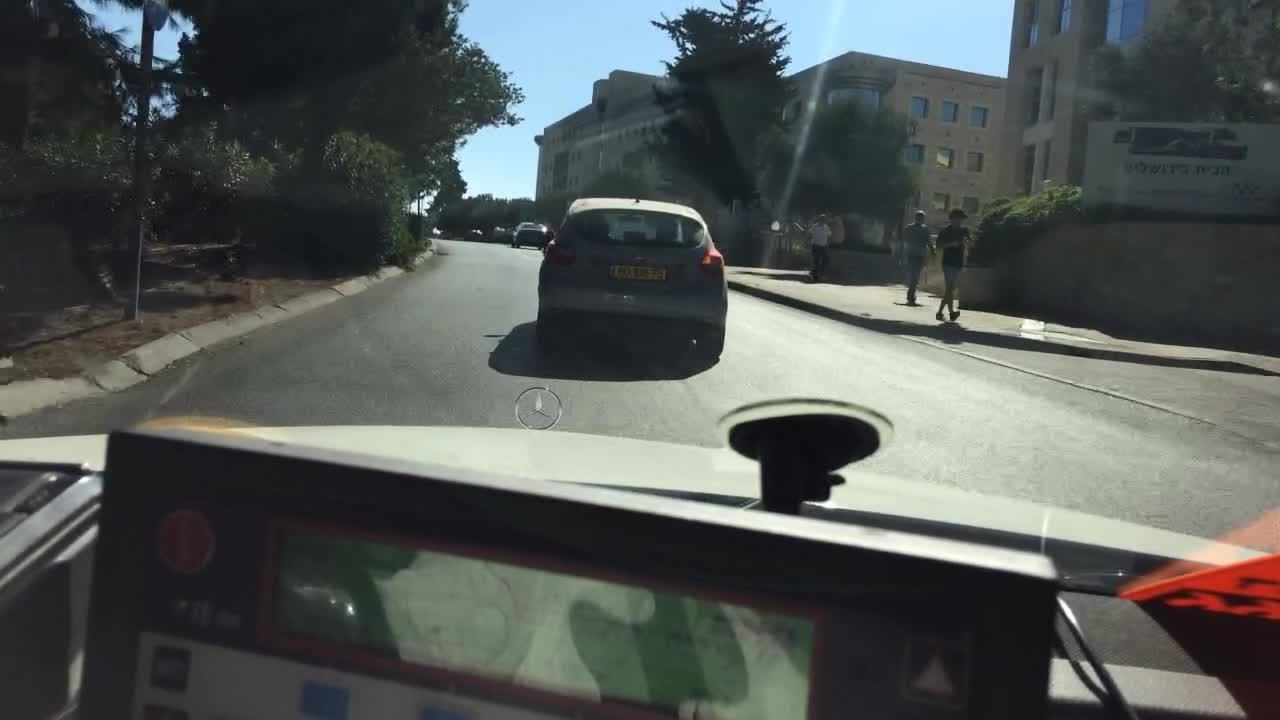car: (533, 197, 729, 356), (508, 219, 548, 248), (487, 223, 511, 240), (429, 222, 447, 236), (465, 227, 481, 237)
person: (937, 206, 971, 320), (902, 211, 937, 301), (808, 213, 831, 277)
